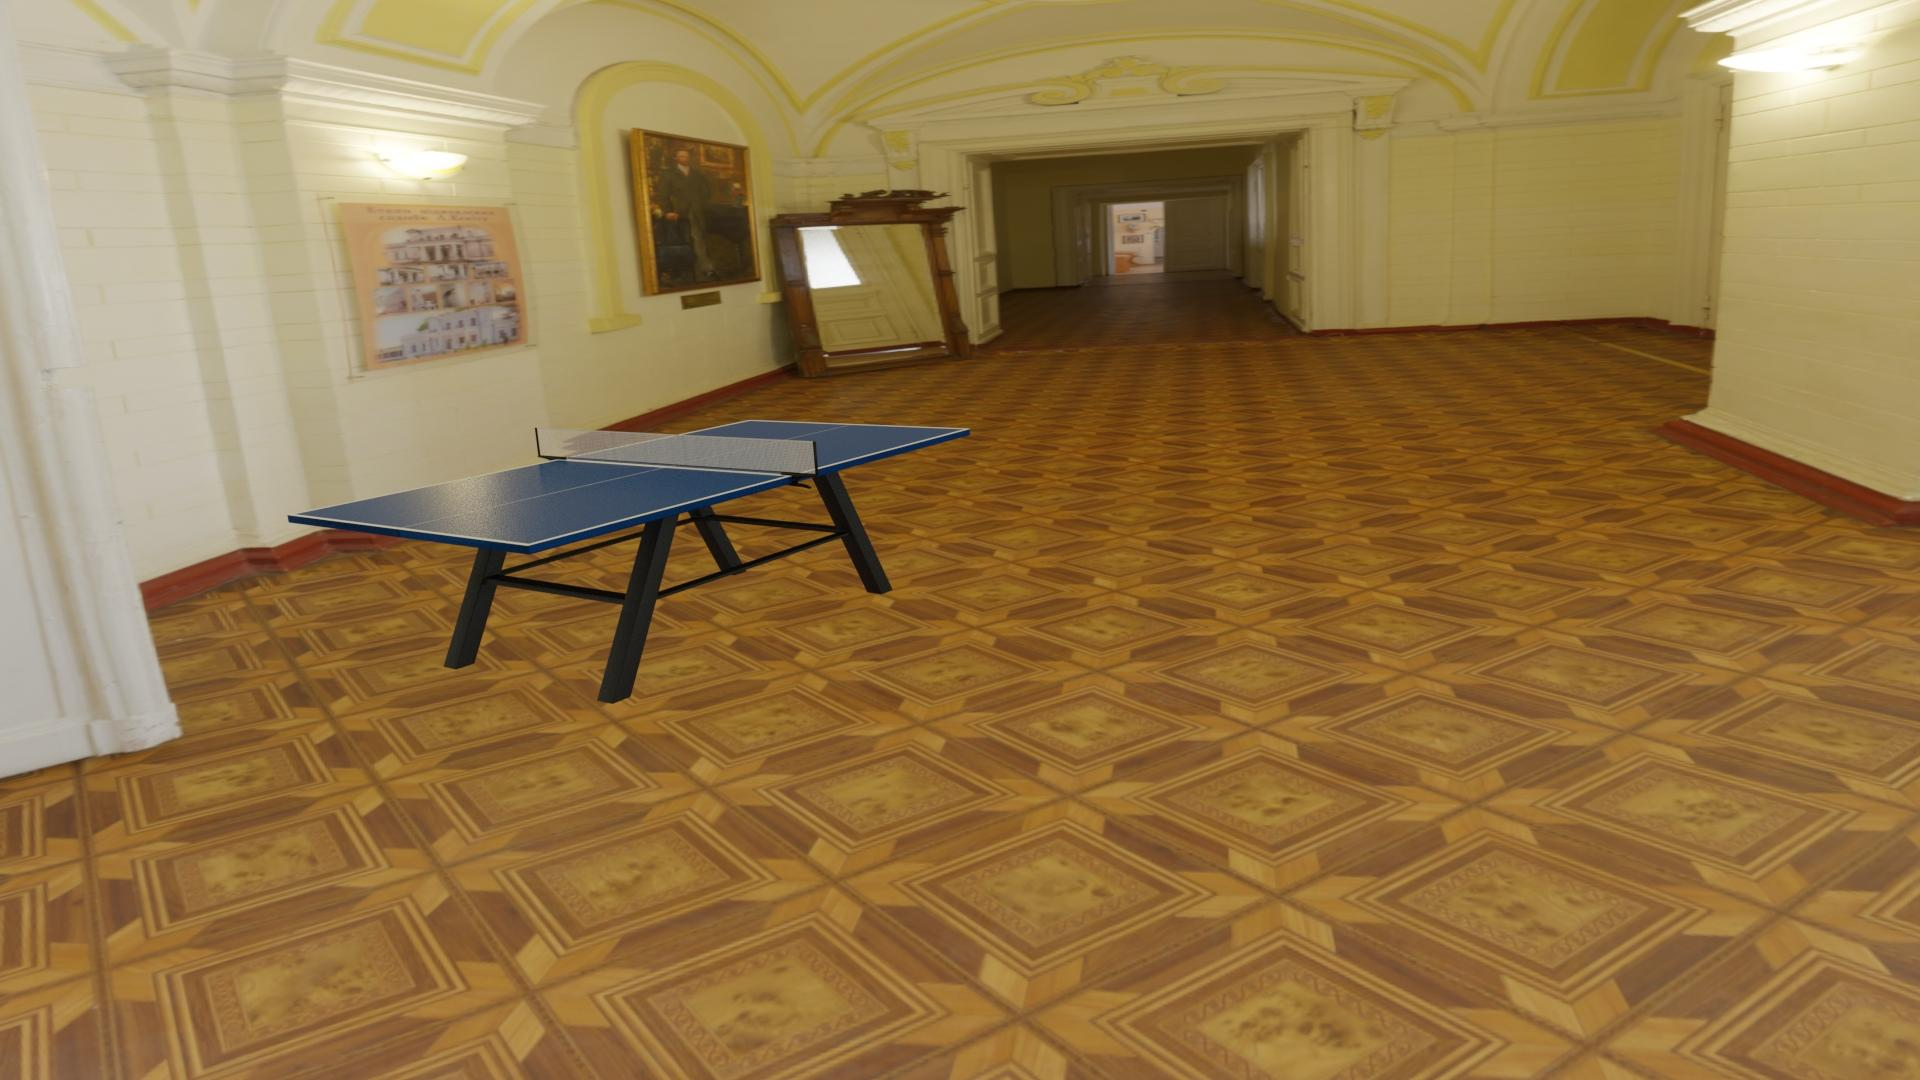table: (294, 421, 965, 545)
